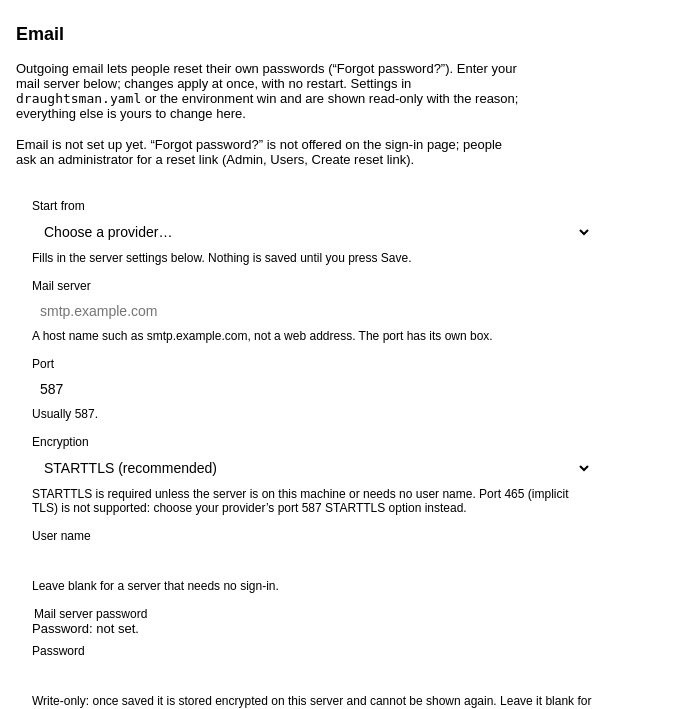
Test: EmailPage › save › shows the server’s refusal as an alert and marks the field it names
In the field labelled "Mail server": (312, 311) [32, 297, 592, 325], type "https://smtp.example.com"
(page scrolled)
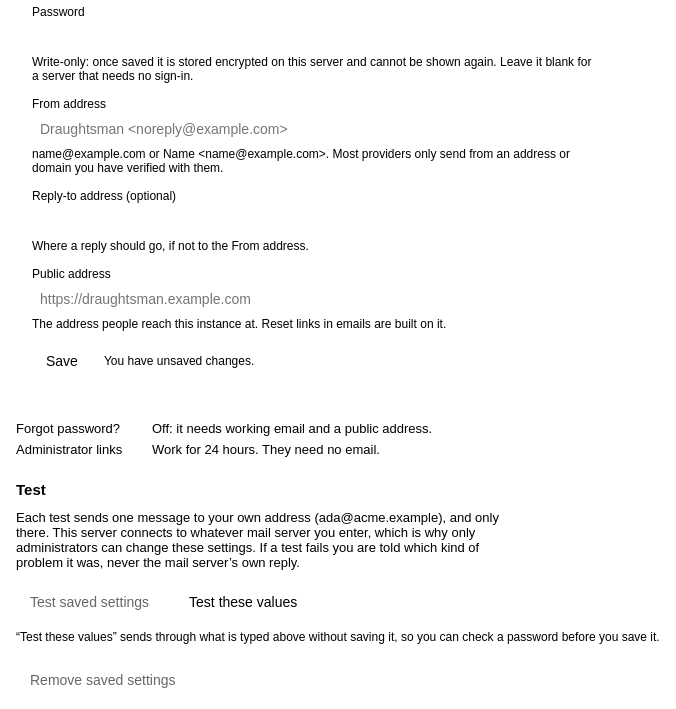
Click the button "Save": (62, 361) [32, 345, 92, 377]
(page scrolled)
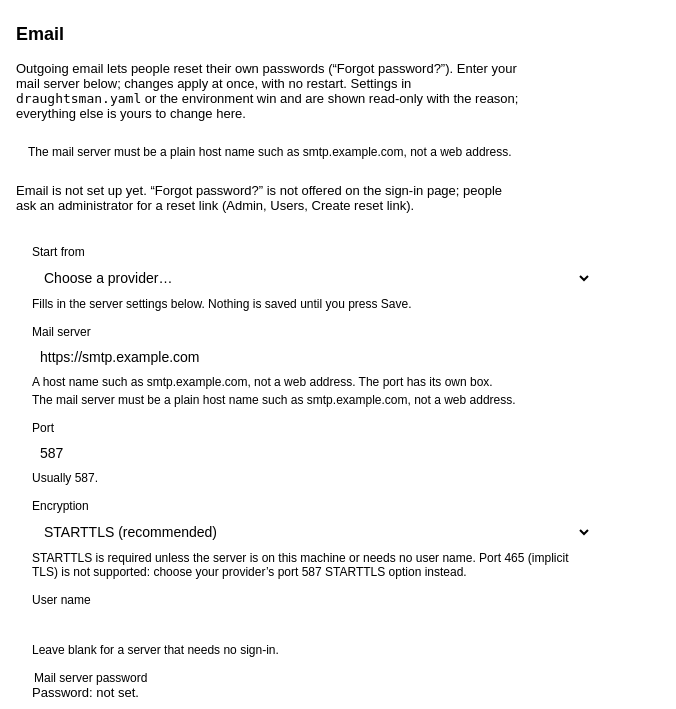
Now the 1st message with test id "email-error" shows "not a web address", box [28, 145, 512, 159]
